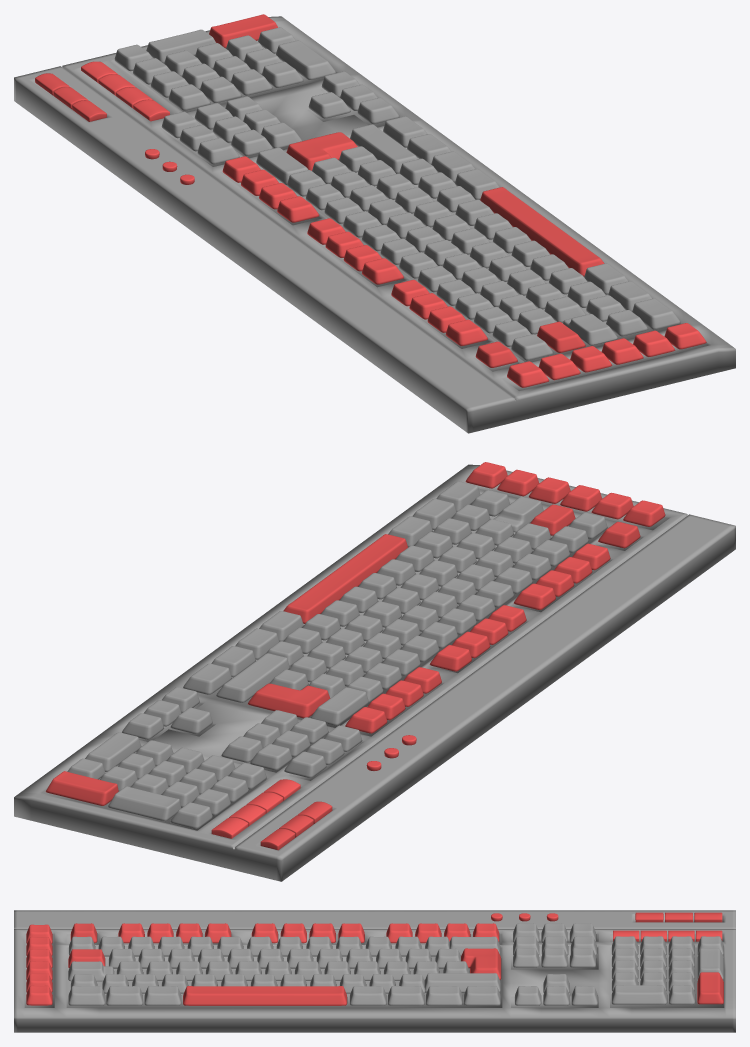
File: SM_Keyboard.fbx
The picture shows the model from 3 angles, top to bottom: view 1: azimuth 30°, elevation 25°; view 2: azimuth 150°, elevation 25°; view 3: azimuth 270°, elevation 25°; orthographic projection. The views are drawn at different scales.
Parts seen in each view (by area): view 1: SM_Keyboard; view 2: SM_Keyboard; view 3: SM_Keyboard.
Part boxes in pixels (box(x1,y1,x2,y2)): SM_Keyboard: box(14, 14, 735, 433); SM_Keyboard: box(14, 462, 735, 881); SM_Keyboard: box(14, 910, 735, 1032).
Size of the model in its own units: 15.26 by 1.99 by 44.88.
